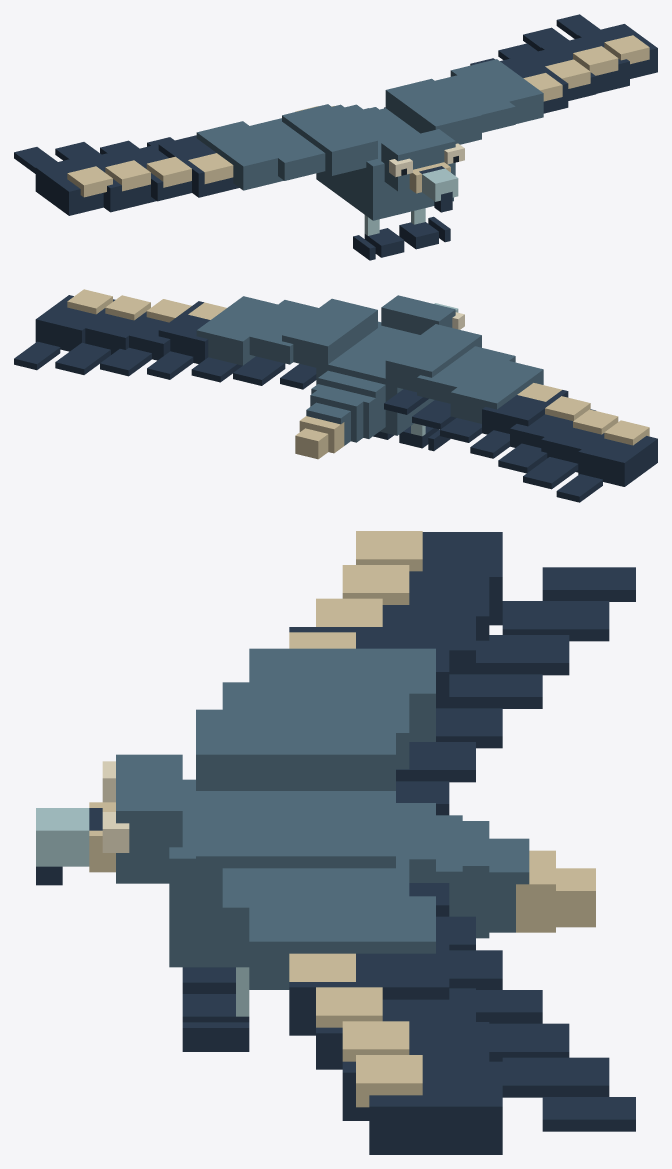
Rendered from gale_raptor.glb.
3 views of the same model, one above another, from view 1: azimuth 30°, elevation 25°; view 2: azimuth 150°, elevation 25°; view 3: azimuth 270°, elevation 25° (orthographic). The views are drawn at different scales.
Parts seen in each view (by area): view 1: gale_raptor/wing_-1, gale_raptor/wing_1, gale_raptor/thorax, gale_raptor/head, gale_raptor/talon_-1, gale_raptor/talon_1; view 2: gale_raptor/wing_-1, gale_raptor/wing_1, gale_raptor/tail, gale_raptor/thorax, gale_raptor/head, gale_raptor/talon_-1; view 3: gale_raptor/wing_1, gale_raptor/wing_-1, gale_raptor/tail, gale_raptor/head, gale_raptor/thorax, gale_raptor/talon_1, gale_raptor/talon_-1.
Part boxes in pixels (box(x1,y1,x2,y2)): gale_raptor/wing_-1: box(14, 104, 377, 215); gale_raptor/wing_1: box(384, 14, 657, 144); gale_raptor/thorax: box(316, 108, 453, 220); gale_raptor/head: box(381, 129, 464, 212); gale_raptor/talon_-1: box(353, 215, 404, 260); gale_raptor/talon_1: box(399, 208, 450, 249); gale_raptor/wing_-1: box(384, 324, 657, 502); gale_raptor/wing_1: box(14, 289, 377, 389); gale_raptor/tail: box(295, 370, 385, 459); gale_raptor/thorax: box(316, 321, 434, 435); gale_raptor/head: box(381, 295, 464, 334); gale_raptor/talon_-1: box(399, 423, 450, 451); gale_raptor/wing_1: box(196, 811, 635, 1154); gale_raptor/wing_-1: box(196, 531, 635, 815); gale_raptor/tail: box(396, 803, 595, 938); gale_raptor/head: box(36, 754, 182, 885); gale_raptor/thorax: box(169, 779, 395, 967); gale_raptor/talon_1: box(182, 967, 249, 1051); gale_raptor/talon_-1: box(182, 967, 235, 993).
Bounding box in the file's own units: 3.19 × 0.5938 × 1.41.
